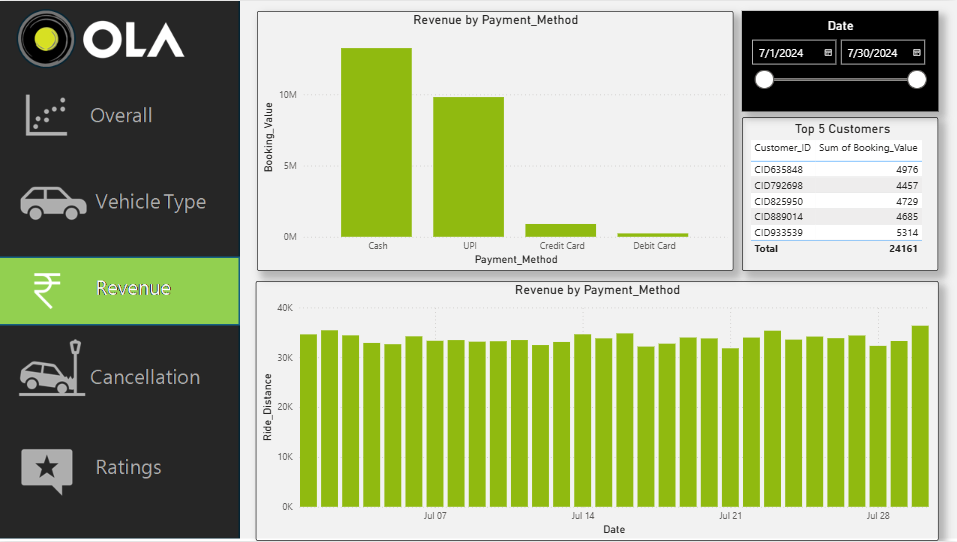

What the dashboard file says about the page in this screenshot:
{"tool":"powerbi","page":{"name":"Revenue","canvas":[1280,720],"ordinal":2},"visuals":[{"type":"actionButton","box":[0,224.4,322.2,83.3],"z":0},{"type":"actionButton","box":[0,224,322,84],"z":1000},{"type":"actionButton","box":[0,344,322,84],"z":2000},{"type":"actionButton","box":[0,218,326,90],"z":3000},{"type":"actionButton","box":[0,448,326,90],"z":4000},{"type":"actionButton","box":[0,580,326,90],"z":5000},{"type":"actionButton","box":[0,110,326,90],"z":6000},{"type":"columnChart","title":"Revenue by Payment_Method","fields":{"Y":["Sum(July.Booking_Value)"],"Category":["July.Payment_Method"]},"box":[346.7,13.3,635,346.7],"z":7000},{"type":"columnChart","title":"Revenue by Payment_Method","fields":{"Y":["Sum(July.Ride_Distance)"],"Category":["July.Date"]},"box":[345,373.3,910,346.7],"z":8000},{"type":"slicer","title":"Date","fields":{"Values":["July.Date"]},"box":[993.3,13.3,261.7,133.3],"z":9000},{"type":"tableEx","title":"Top 5 Customers","fields":{"Values":["July.Customer_ID","Sum(July.Booking_Value)"]},"box":[993.3,155,261.7,205],"z":10000}]}

Visuals, with their boxes on the page's 1280x720 design canvas (x1, y1, x2, y2). These are canvas units, not pixel positions in the 957x542 screenshot, which may show the page scaled, cropped or inside an application window:
actionButton: region(0, 224, 322, 308)
actionButton: region(0, 224, 322, 308)
actionButton: region(0, 344, 322, 428)
actionButton: region(0, 218, 326, 308)
actionButton: region(0, 448, 326, 538)
actionButton: region(0, 580, 326, 670)
actionButton: region(0, 110, 326, 200)
"Revenue by Payment_Method" columnChart: region(347, 13, 982, 360)
"Revenue by Payment_Method" columnChart: region(345, 373, 1255, 720)
"Date" slicer: region(993, 13, 1255, 147)
"Top 5 Customers" tableEx: region(993, 155, 1255, 360)
